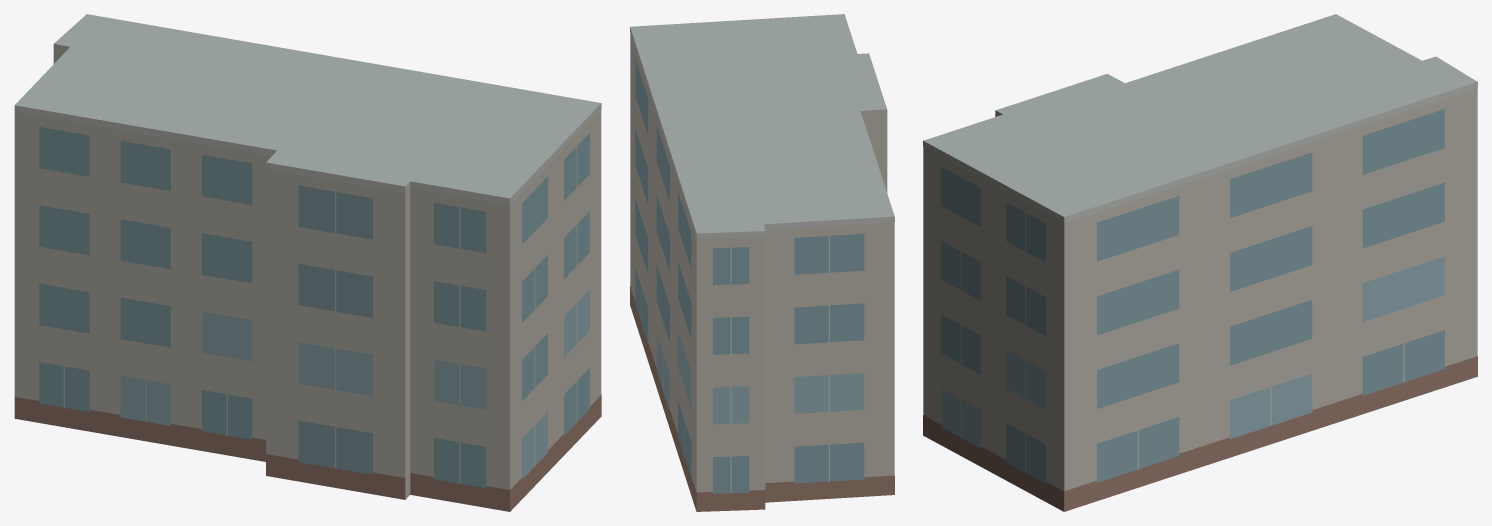
File: survey-upis-32802302.glb
The picture shows the model from 3 angles, left to right: view 1: azimuth 30°, elevation 25°; view 2: azimuth 150°, elevation 25°; view 3: azimuth 270°, elevation 25°; orthographic projection. The views are drawn at different scales.
Parts seen in each view (by area): view 1: survey-upis-32802302.tmp; view 2: survey-upis-32802302.tmp; view 3: survey-upis-32802302.tmp.
Boxes of the visible parts, x1=… form: survey-upis-32802302.tmp: x1=14, y1=14, x2=601, y2=511; survey-upis-32802302.tmp: x1=630, y1=14, x2=894, y2=511; survey-upis-32802302.tmp: x1=923, y1=14, x2=1477, y2=511.
Size of the model in its own units: 17.74 by 12 by 20.47.
